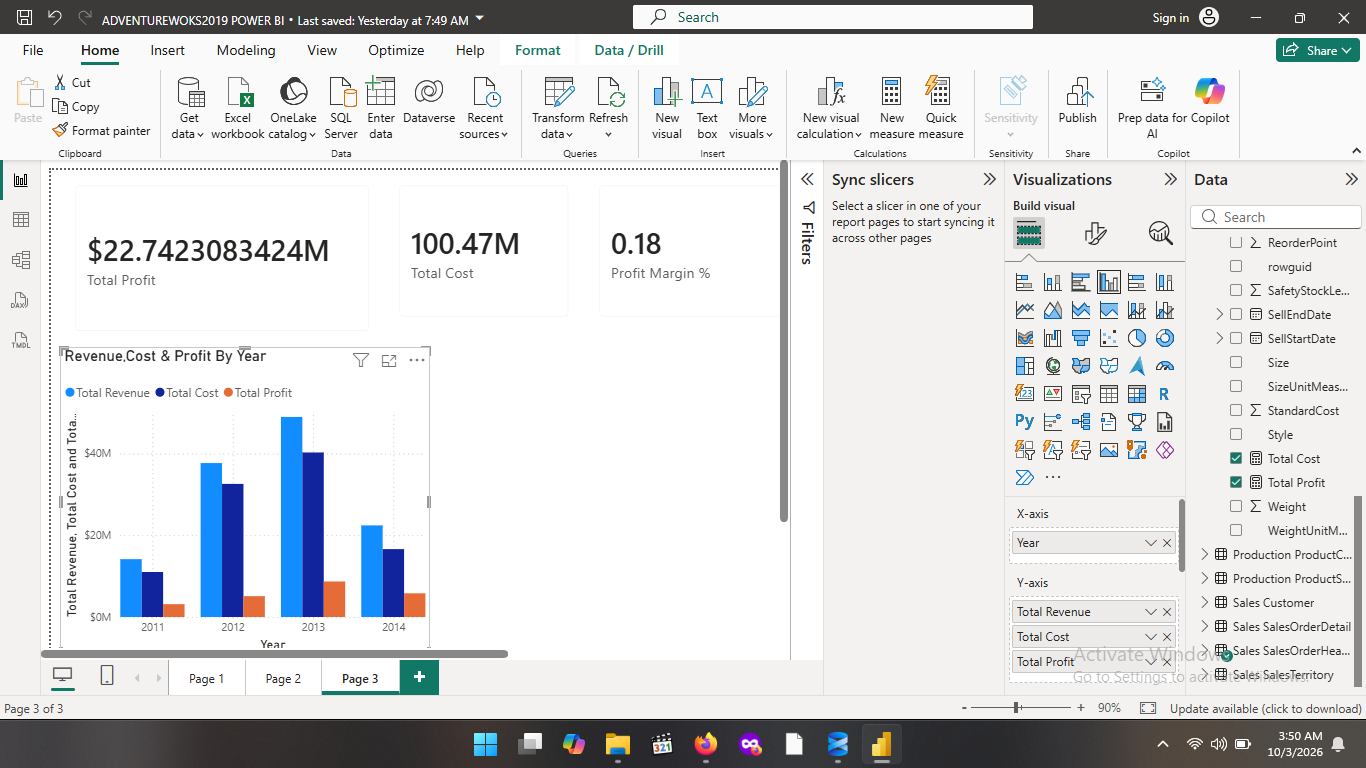

The page's visual inventory and layout, read from the dashboard file:
{"tool":"powerbi","page":{"name":"Page 3","canvas":[1280,720],"ordinal":2},"visuals":[{"type":"cardVisual","fields":{"Data":["Production Product.Total Profit"]},"box":[10,0,360,196.7],"z":0},{"type":"cardVisual","fields":{"Data":["Production Product.Total Cost"]},"box":[370,0,222.2,180],"z":1000},{"type":"cardVisual","fields":{"Data":["Production Product.Profit Margin %"]},"box":[592.2,0,267.8,180],"z":2000},{"type":"clusteredColumnChart","title":"Revenue,Cost & Profit By Year","fields":{"Category":["Date Table.Year"],"Y":["Sales SalesOrderHeader.Total Revenue","Production Product.Total Cost","Production Product.Total Profit"]},"box":[10.2,196.1,730.2,442],"z":3000},{"type":"textbox","box":[777.1,368.8,298.5,146.3],"z":4000}]}

Visuals, with their boxes on the page's 1280x720 design canvas (x1, y1, x2, y2). These are canvas units, not pixel positions in the 1366x768 screenshot, which may show the page scaled, cropped or inside an application window:
cardVisual - Production Product.Total Profit: left=10, top=0, right=370, bottom=197
cardVisual - Production Product.Total Cost: left=370, top=0, right=592, bottom=180
cardVisual - Production Product.Profit Margin %: left=592, top=0, right=860, bottom=180
"Revenue,Cost & Profit By Year" clusteredColumnChart: left=10, top=196, right=740, bottom=638
textbox: left=777, top=369, right=1076, bottom=515
